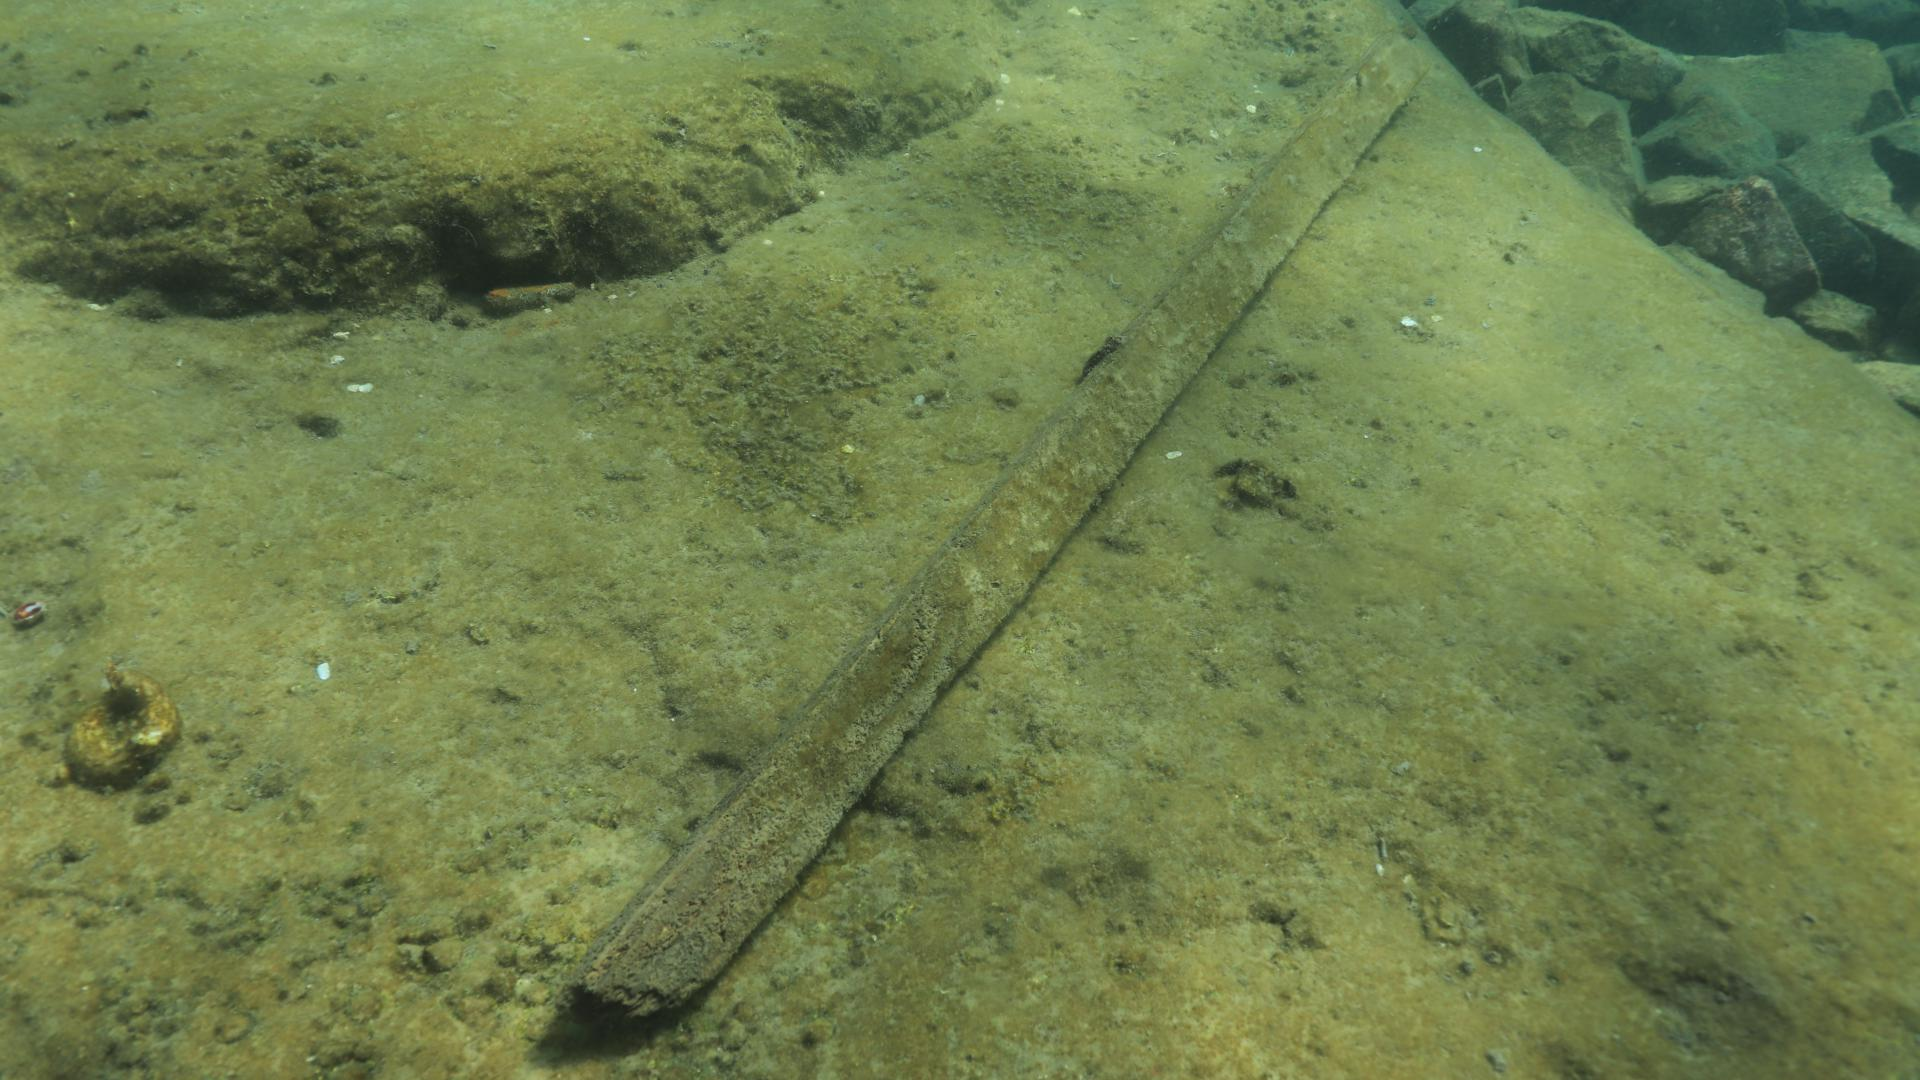wood: (572, 29, 1422, 1025)
